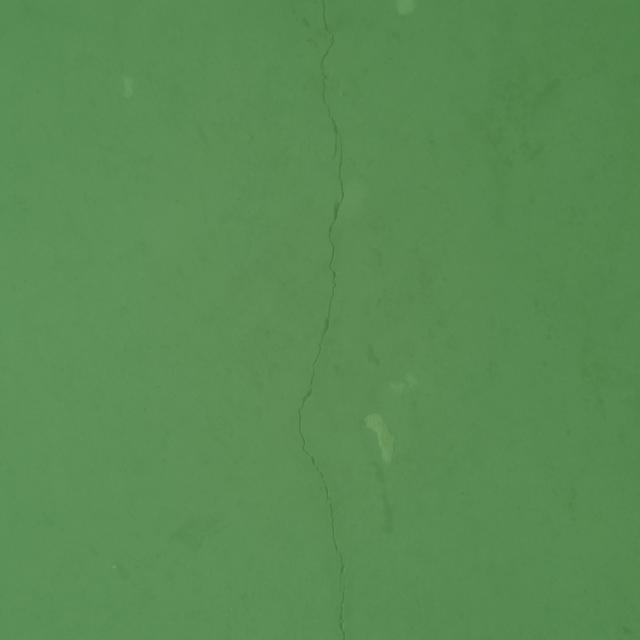crack: (296, 0, 348, 640)
